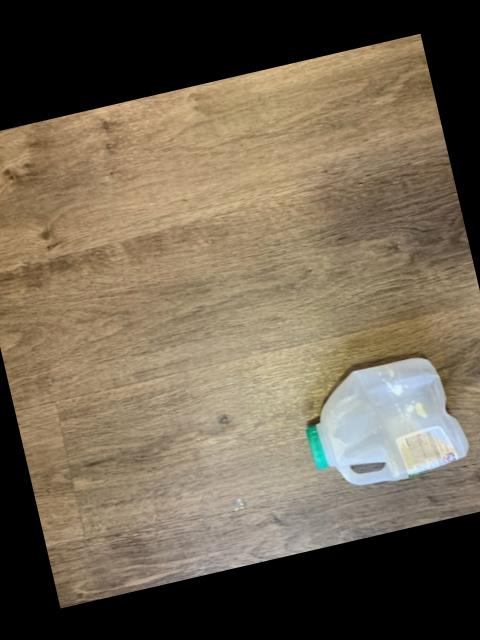plastic: (304, 356, 466, 482)
